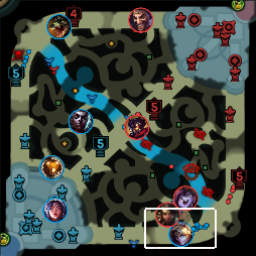bard: (40, 155, 63, 180)
draven: (129, 7, 153, 33)
ekko: (68, 110, 93, 133)
ezreal: (168, 221, 193, 246)
irelia: (41, 198, 67, 222)
lulu: (174, 186, 197, 211)
nidalee: (155, 203, 179, 226)
renekton: (45, 13, 71, 40)
viktor: (123, 115, 147, 138)
